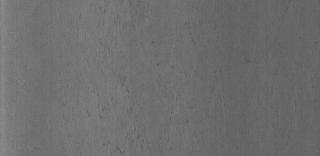silk spot: (76, 0, 220, 150)
